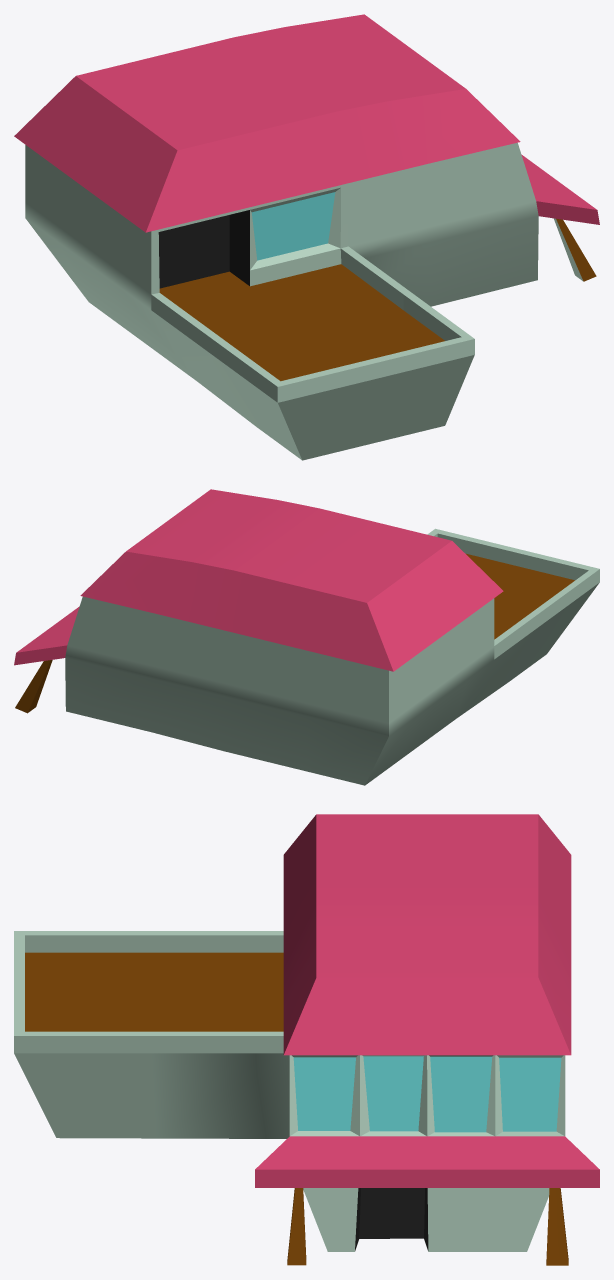
The model's file is buildingSmallBusiness.fbx.
3 renders of one model, top to bottom at view 1: azimuth 30°, elevation 25°; view 2: azimuth 150°, elevation 25°; view 3: azimuth 270°, elevation 25°, orthographic. The views are drawn at different scales.
Visible parts, largest first — view 1: pCube7; view 2: pCube7; view 3: pCube7.
Boxes of the visible parts, x1,y1,x2,y2 form: pCube7: (14,14,599,460); pCube7: (14,489,599,785); pCube7: (14,814,599,1265).
Bounding box in the file's own units: 370 × 176 × 379.
